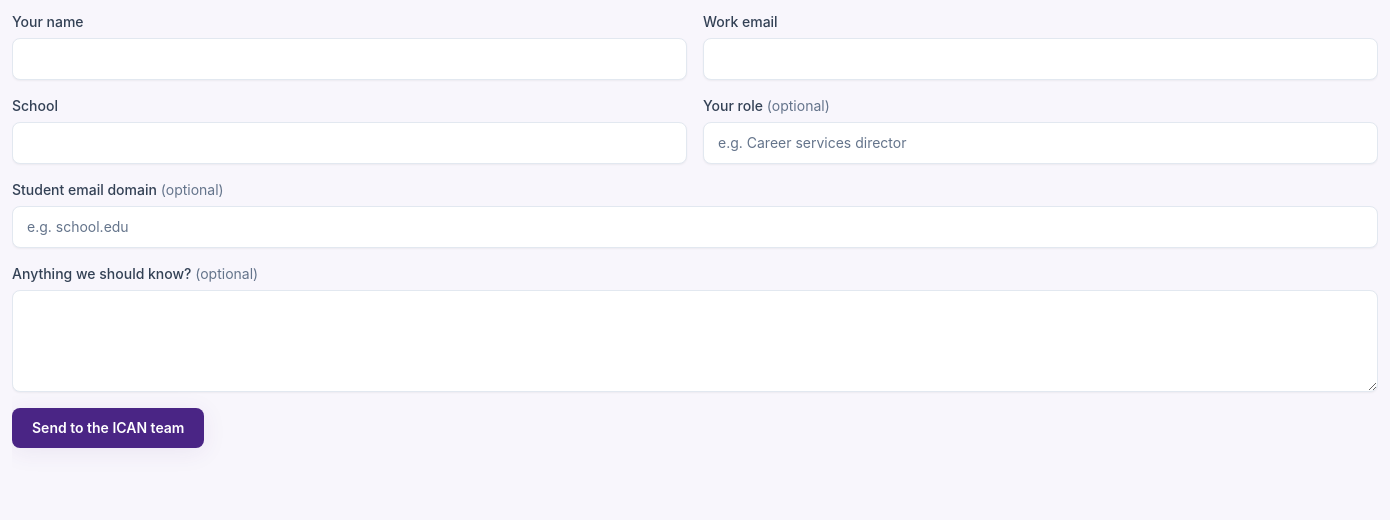
SchoolInquiryForm (For schools page) › shows the server's error and keeps the form
The image size is (1390, 520).
Step 1. Type "Pat Example" into the field labelled "Your name" → (350, 59), box [12, 38, 687, 80]
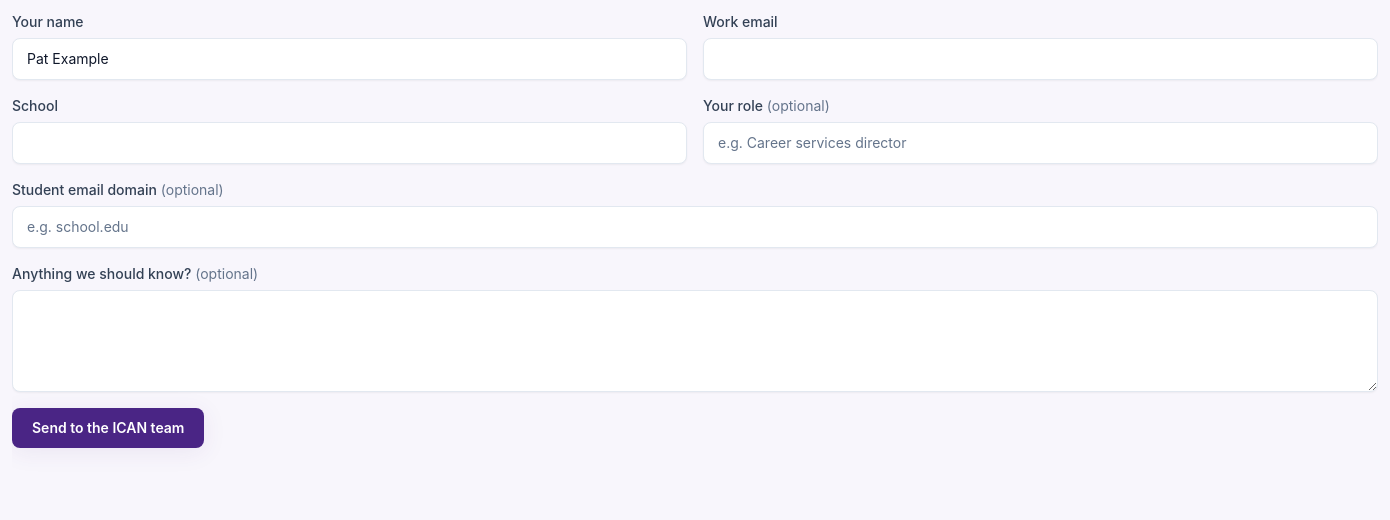
Step 2. Type "pat@state.edu" into the field labelled "Work email" → (1040, 59), box [703, 38, 1378, 80]
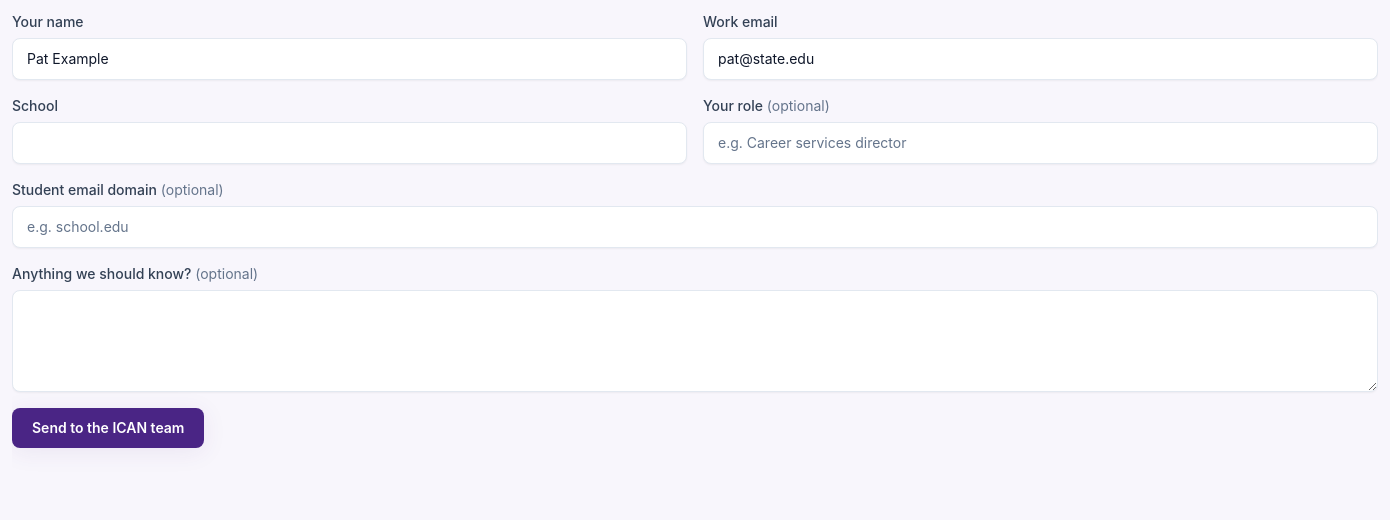
Step 3. Type "State University" into the field labelled "School" → (350, 143), box [12, 122, 687, 164]
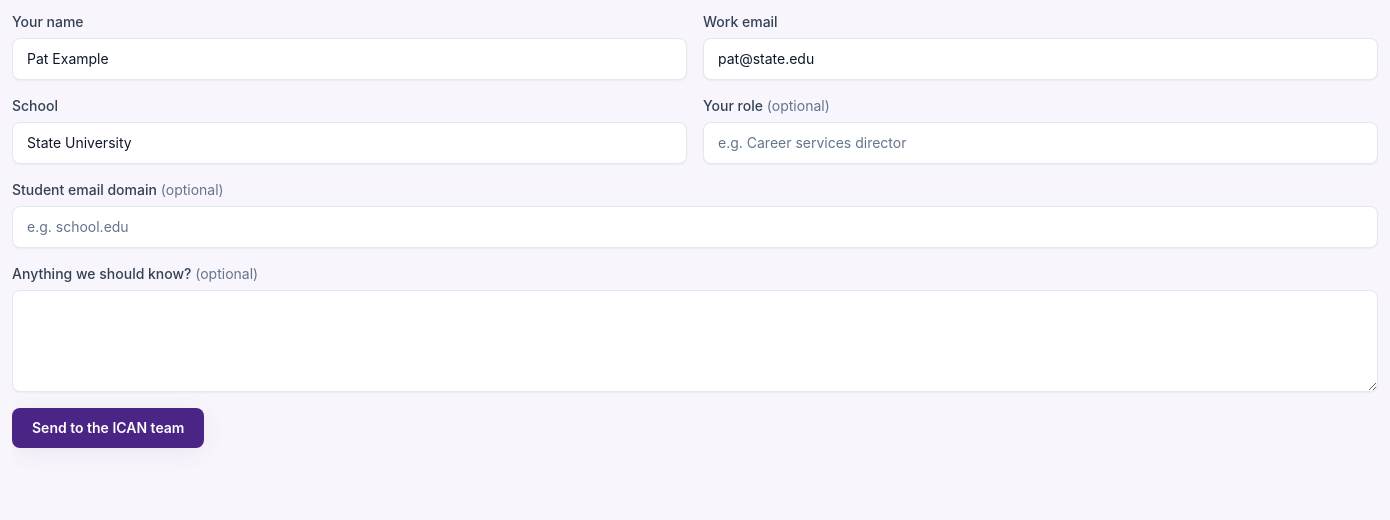
Step 4. Click the button "Send to the ICAN team" → click(108, 428), box [12, 408, 204, 448]
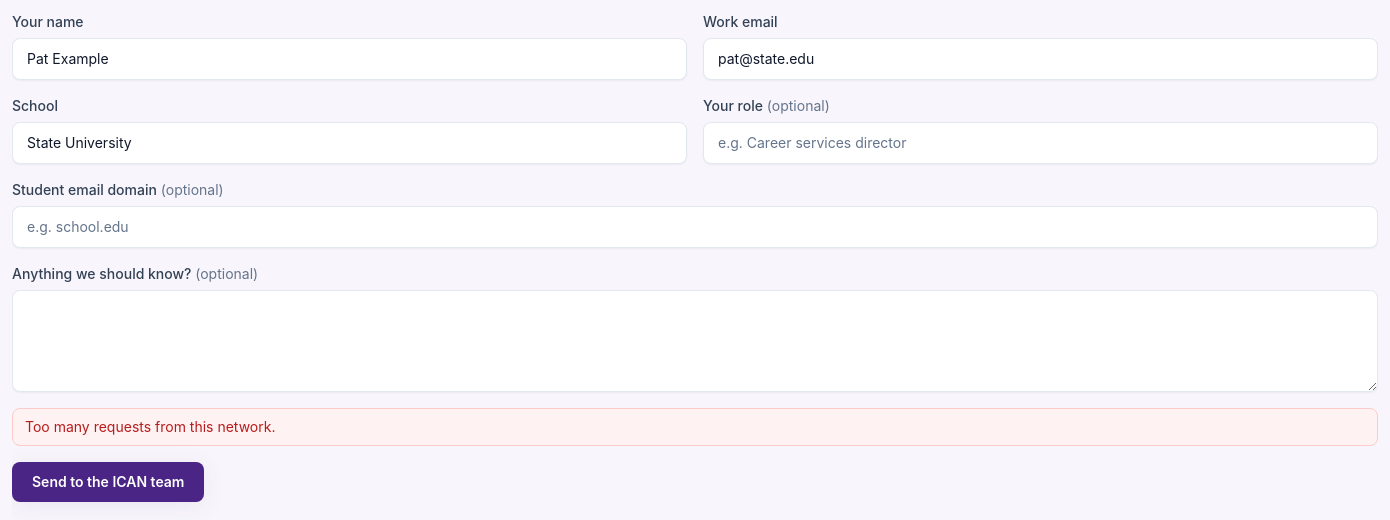
Check: the button "Send to the ICAN team" is enabled, box [12, 462, 204, 502]
Check: the message shows "Too many requests", box [25, 418, 276, 435]
